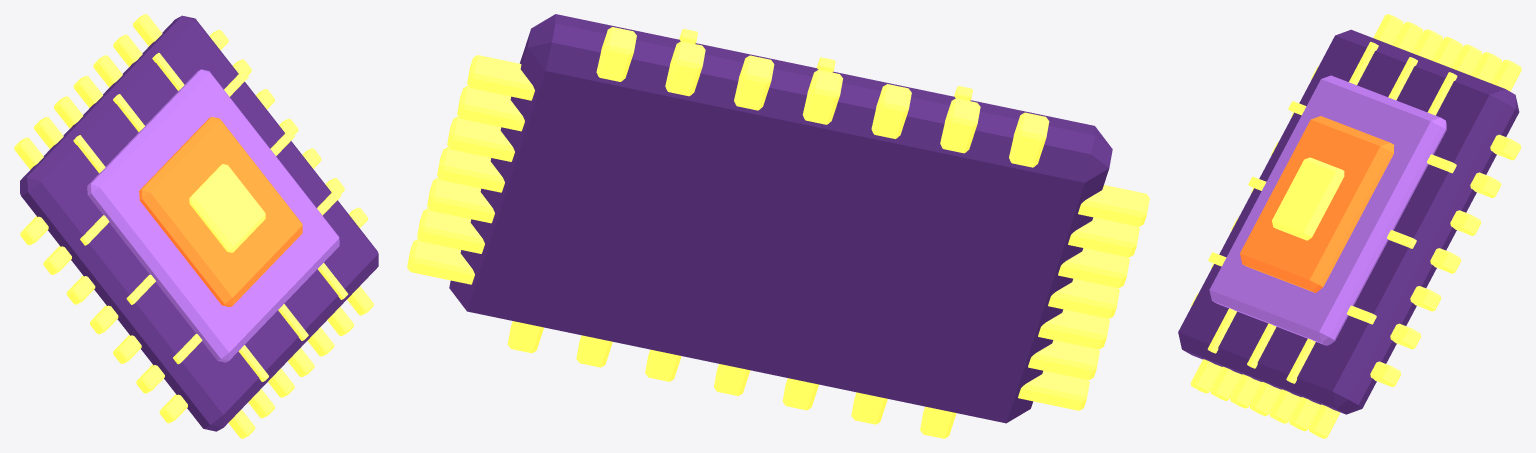
File: infortux_cpu_chip.glb
3 views of the same model, side by side, from view 1: azimuth 30°, elevation 25°; view 2: azimuth 150°, elevation 25°; view 3: azimuth 270°, elevation 25° (orthographic). The views are drawn at different scales.
Visible parts, largest first — view 1: Infortux_CPU_Chip; view 2: Infortux_CPU_Chip; view 3: Infortux_CPU_Chip.
Boxes of the visible parts, <box> form: Infortux_CPU_Chip: <box>14,14,378,438</box>; Infortux_CPU_Chip: <box>407,14,1149,438</box>; Infortux_CPU_Chip: <box>1178,14,1521,438</box>.
Bounding box in the file's own units: 2.94 × 2.36 × 2.09.
